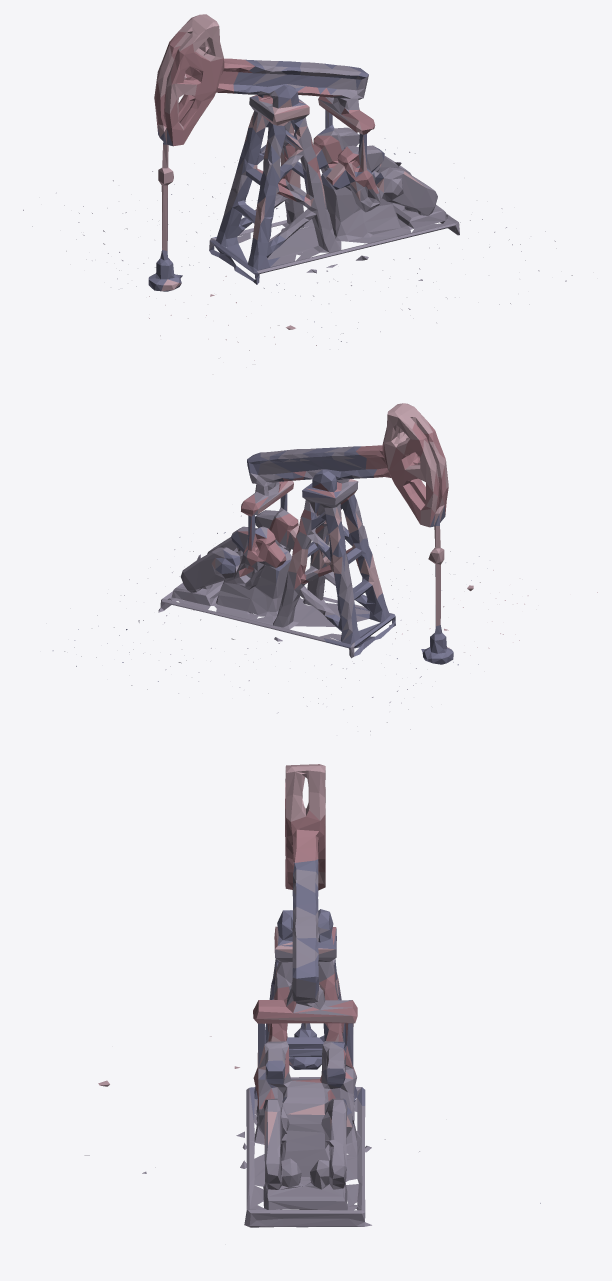
The model's file is oil_derrick.glb.
3 renders of one model, top to bottom at view 1: azimuth 30°, elevation 25°; view 2: azimuth 150°, elevation 25°; view 3: azimuth 270°, elevation 25°, orthographic. The views are drawn at different scales.
Visible parts, largest first — view 1: geometry_0; view 2: geometry_0; view 3: geometry_0.
Part boxes in pixels (x1,y1,x2,y2): geometry_0: (23,14,572,360); geometry_0: (52,403,597,731); geometry_0: (84,764,540,1227).
Size of the model in its own units: 1.98 by 1.19 by 1.95.
